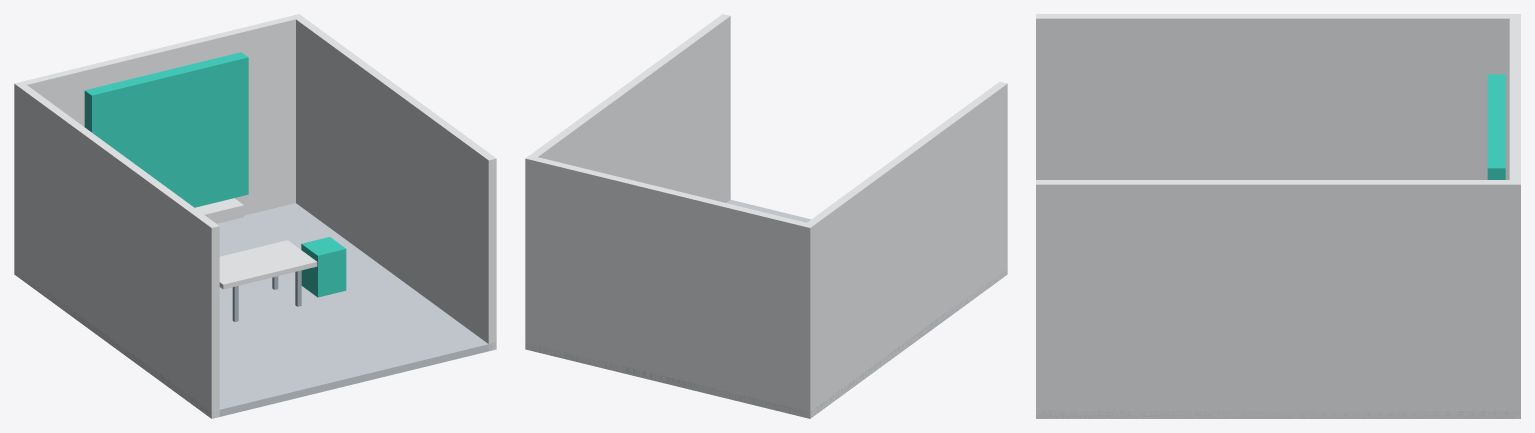
The picture shows the model from 3 angles, left to right: view 1: azimuth 30°, elevation 25°; view 2: azimuth 150°, elevation 25°; view 3: azimuth 270°, elevation 25°; orthographic projection. The views are drawn at different scales.
Parts seen in each view (by area): view 1: Exhibition Booth Concept; view 2: Exhibition Booth Concept; view 3: Exhibition Booth Concept.
Boxes of the visible parts, x1=… form: Exhibition Booth Concept: x1=14, y1=14, x2=496, y2=418; Exhibition Booth Concept: x1=525, y1=14, x2=1007, y2=418; Exhibition Booth Concept: x1=1036, y1=14, x2=1520, y2=418.
Size of the model in its own units: 5 by 3.2 by 6.
